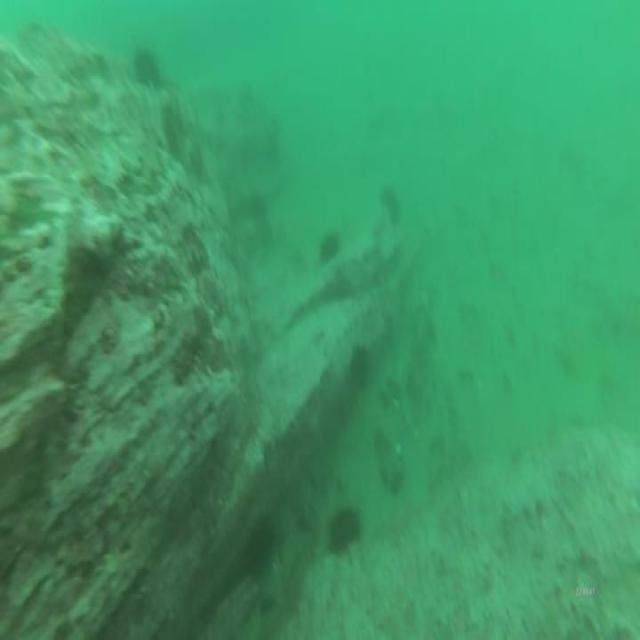echinus: (241, 512, 279, 578), (324, 503, 362, 561), (130, 44, 162, 89), (348, 342, 372, 394), (376, 180, 401, 224), (316, 228, 340, 268)
